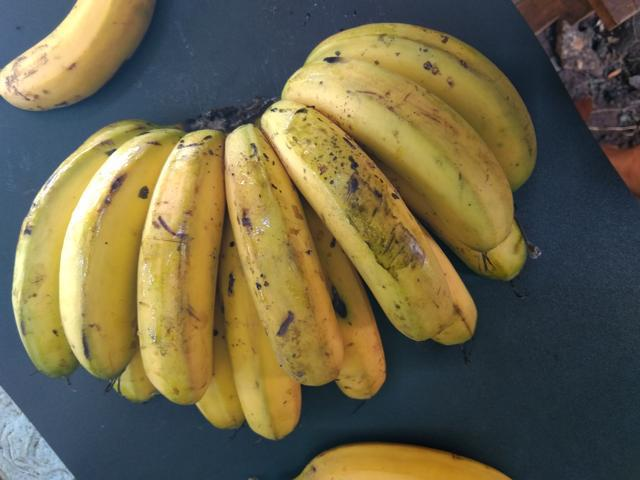ripe: (272, 54, 531, 262), (258, 87, 454, 341), (203, 92, 346, 391), (134, 114, 226, 411), (66, 128, 151, 384), (0, 0, 165, 112)
